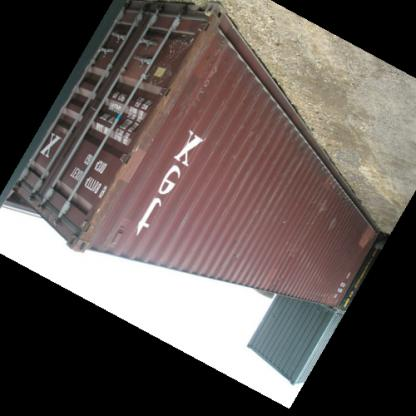Damage: (134, 29, 212, 152), (76, 176, 134, 249), (238, 108, 268, 150), (312, 196, 342, 238), (283, 238, 311, 272), (226, 230, 246, 274), (310, 292, 342, 306)
